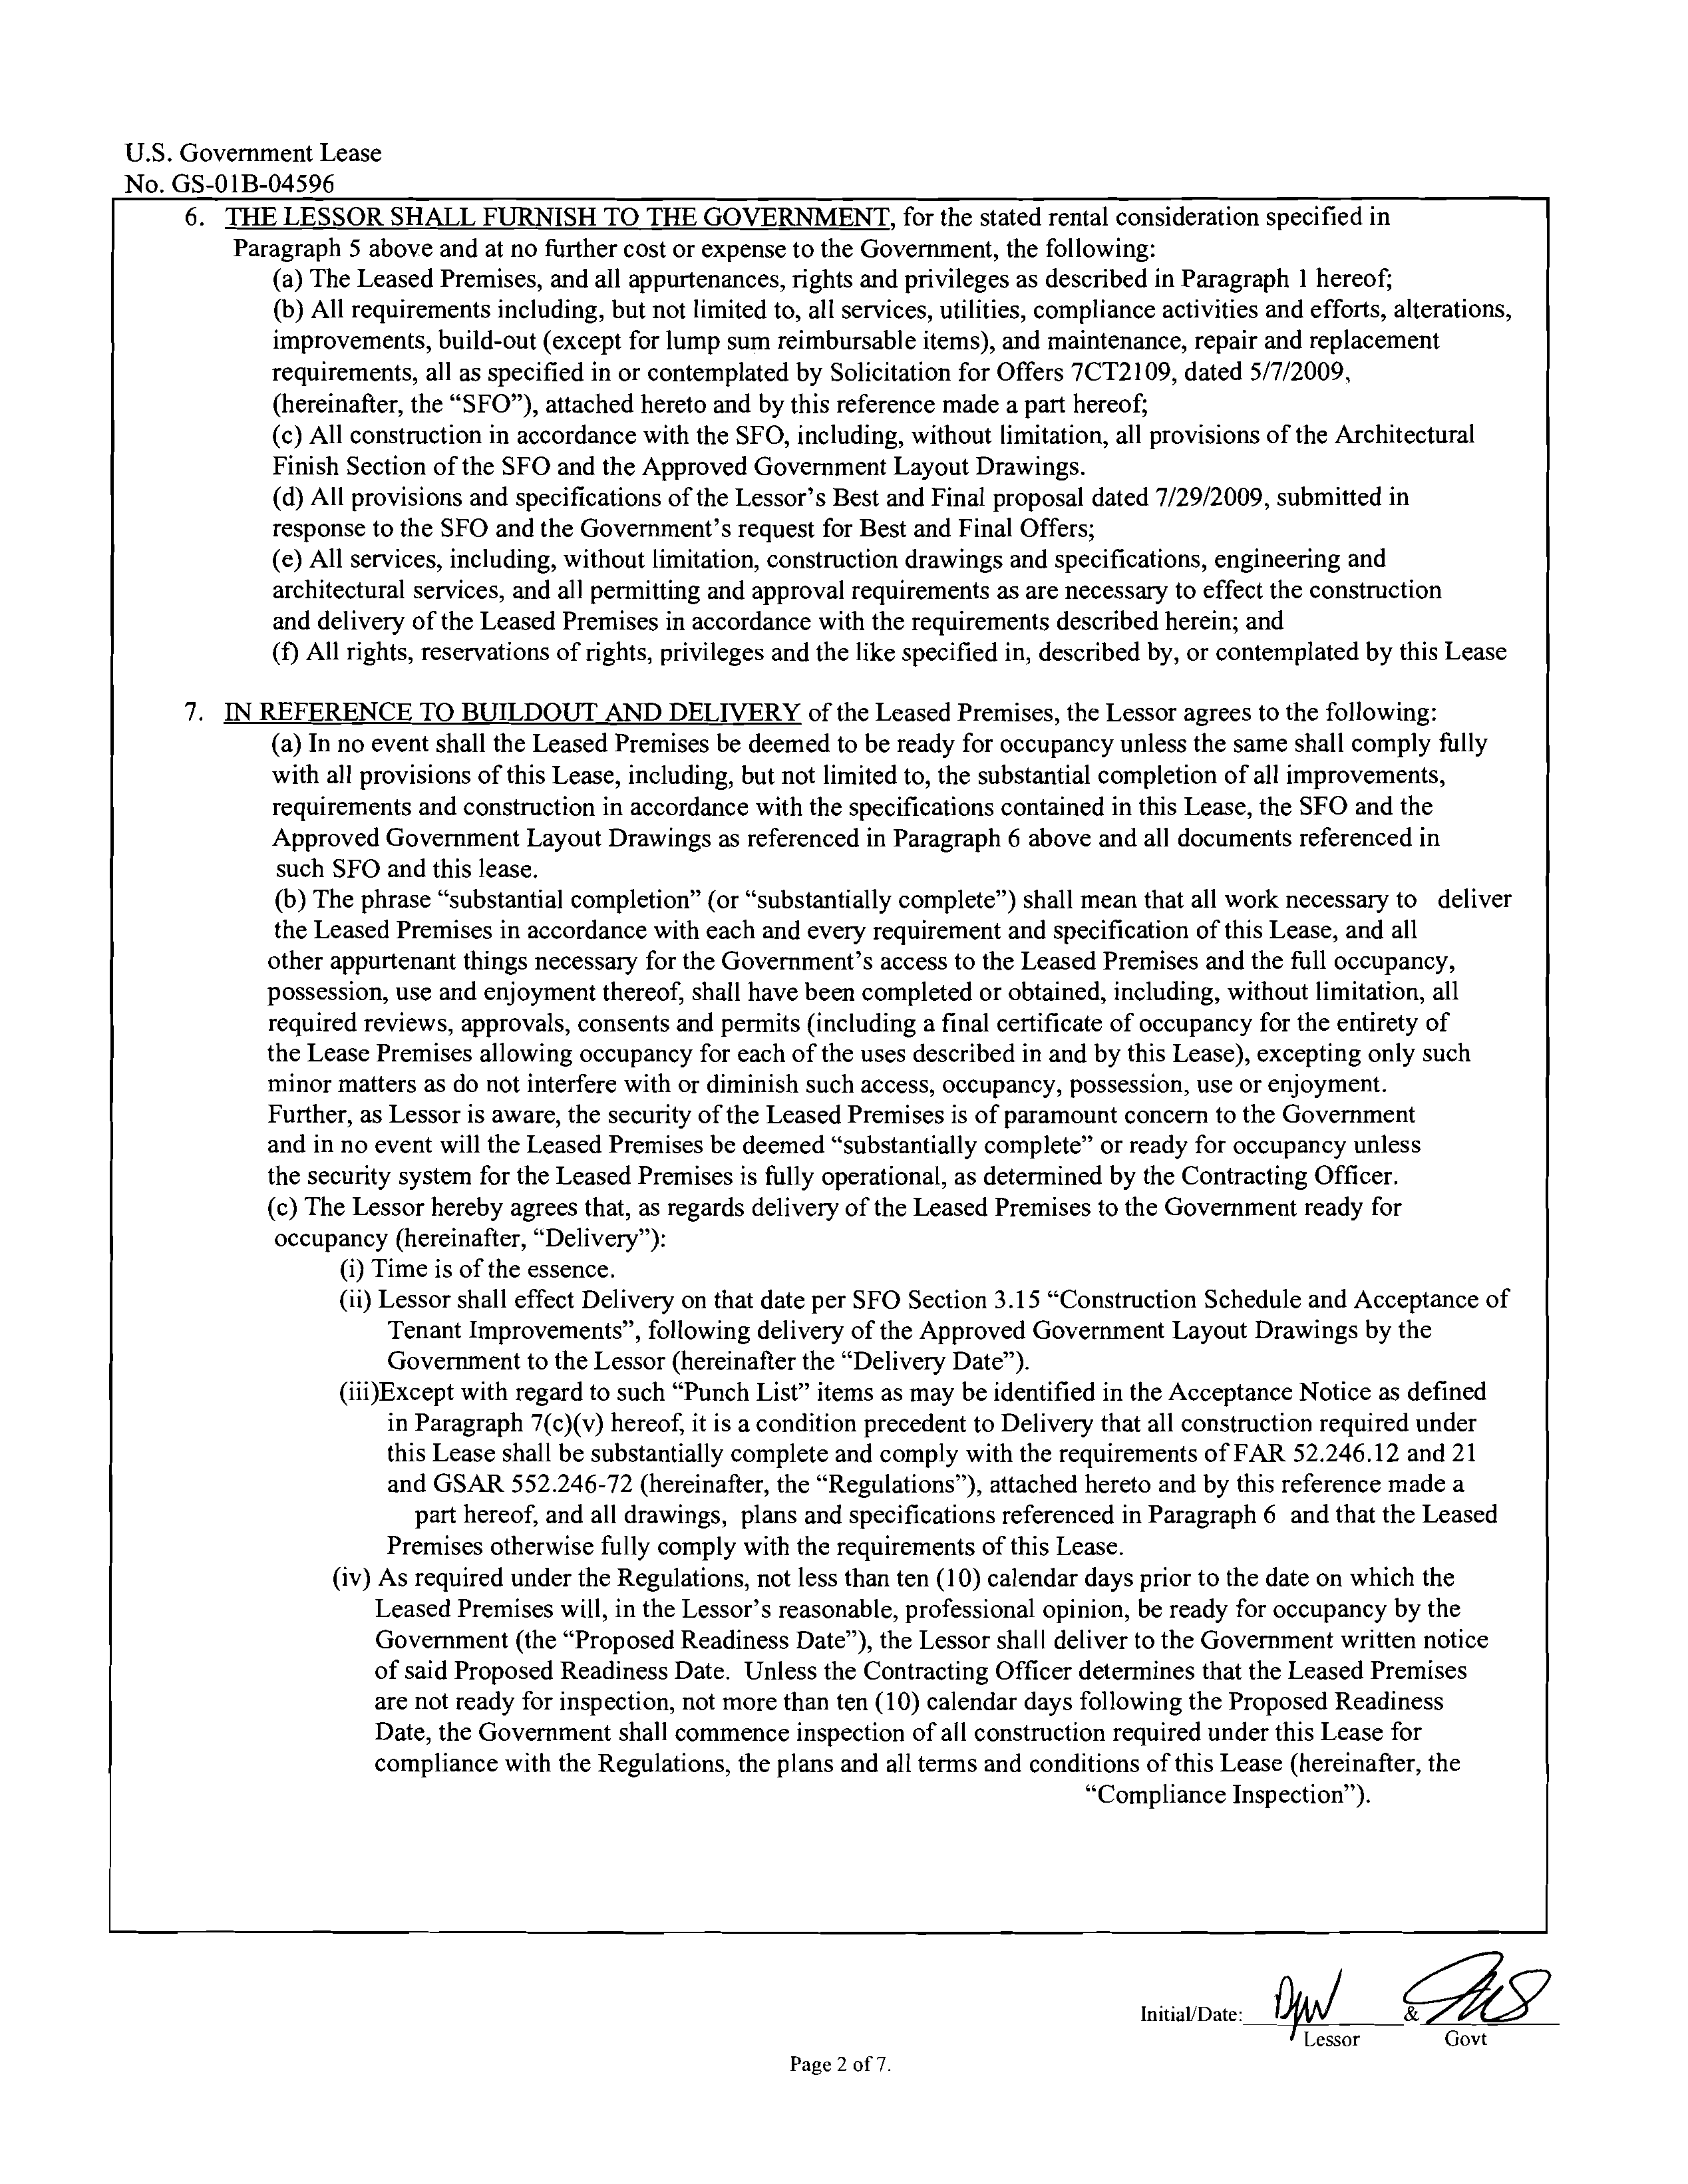handwritten: (1397, 1948, 1559, 2005), (1268, 1969, 1348, 2026), (1266, 1964, 1305, 2047), (1426, 2003, 1536, 2021)
